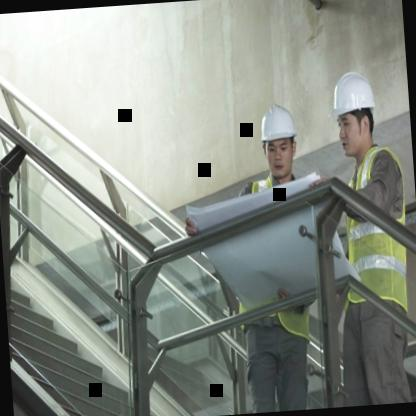helmet: (324, 61, 383, 170), (253, 97, 305, 187)
